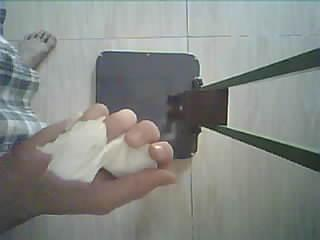paper: (40, 119, 158, 183)
